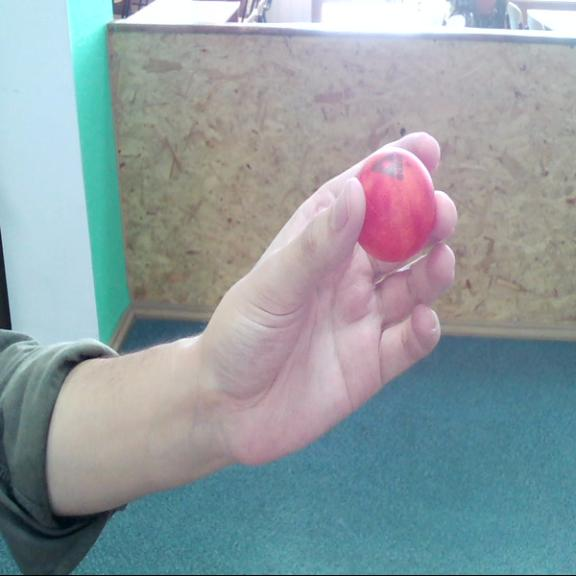ball: (352, 138, 440, 262)
